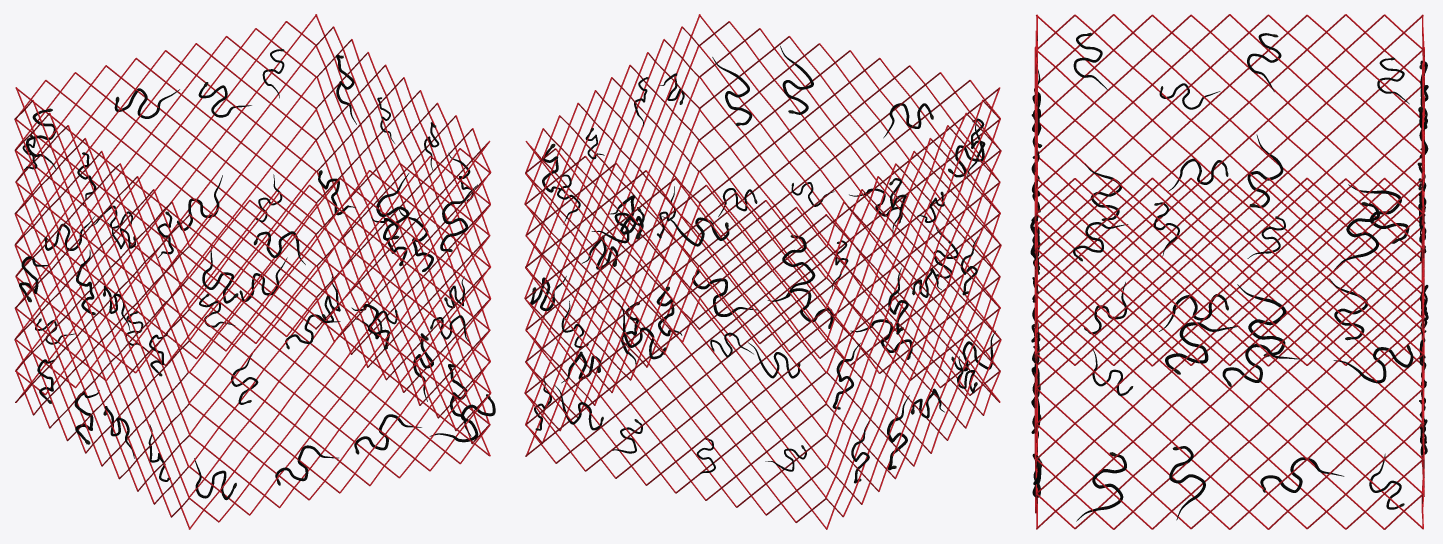
File: 09_紅色鐵網_小蛇_10x10.glb
3 renders of one model, left to right at view 1: azimuth 30°, elevation 25°; view 2: azimuth 150°, elevation 25°; view 3: azimuth 270°, elevation 25°, orthographic. The views are drawn at different scales.
Parts seen in each view (by area): view 1: cube68.001, cube70.001, cube71.001, cube69.001; view 2: cube70.001, cube68.001, cube71.001, cube69.001; view 3: cube69.001, cube71.001, cube68.001, cube70.001, cube93.001, cube113.001, cube88.001, cube94.001, cube95.001, cube99.001, cube89.001, cube116.001.
Boxes of the visible parts, bbox=[...] form: cube68.001: bbox=[188, 140, 490, 529]; cube70.001: bbox=[15, 14, 317, 402]; cube71.001: bbox=[14, 87, 190, 528]; cube69.001: bbox=[315, 14, 491, 456]; cube70.001: bbox=[525, 141, 827, 528]; cube68.001: bbox=[698, 14, 1000, 402]; cube71.001: bbox=[825, 87, 1001, 529]; cube69.001: bbox=[524, 14, 700, 454]; cube69.001: bbox=[1036, 177, 1423, 529]; cube71.001: bbox=[1036, 14, 1423, 366]; cube68.001: bbox=[1034, 14, 1037, 527]; cube70.001: bbox=[1421, 14, 1424, 529]; cube93.001: bbox=[1165, 322, 1237, 374]; cube113.001: bbox=[1237, 284, 1286, 357]; cube88.001: bbox=[1076, 452, 1126, 521]; cube94.001: bbox=[1222, 344, 1299, 386]; cube95.001: bbox=[1333, 344, 1413, 383]; cube99.001: bbox=[1334, 202, 1379, 269]; cube89.001: bbox=[1169, 446, 1205, 520]; cube116.001: bbox=[1348, 184, 1409, 243].
Size of the model in its own units: 2.58 by 2.51 by 2.57.
Materials: 2 (2 with a texture image).
